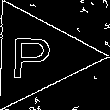P_N: (16, 30, 59, 81)
